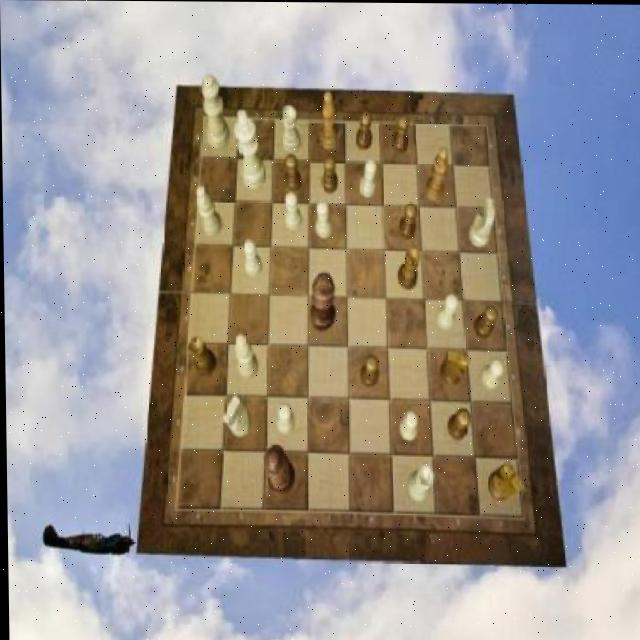bishop: (425, 147, 448, 203), (320, 91, 338, 150)
black-bishop: (309, 273, 335, 331)
black-king: (487, 461, 523, 502), (440, 349, 470, 385)
black-knight: (473, 304, 498, 339), (446, 407, 471, 440), (392, 115, 410, 155), (398, 202, 416, 241), (355, 110, 372, 150), (285, 152, 302, 191), (359, 354, 377, 388), (322, 154, 337, 192)
black-pawn: (262, 444, 294, 497)
black-queen: (187, 337, 215, 377), (397, 245, 420, 289)
black-rook: (196, 186, 221, 239), (235, 334, 258, 379)
white-bishop: (235, 109, 267, 189)
white-king: (468, 197, 495, 246), (222, 395, 250, 437)
white-knight: (436, 294, 459, 330), (480, 358, 503, 391), (241, 239, 261, 276), (284, 191, 302, 229), (359, 159, 377, 197), (316, 201, 334, 238), (274, 403, 294, 434), (397, 410, 417, 441)
white-pawn: (201, 73, 231, 148)
white-queen: (407, 464, 434, 502), (281, 105, 301, 152)
